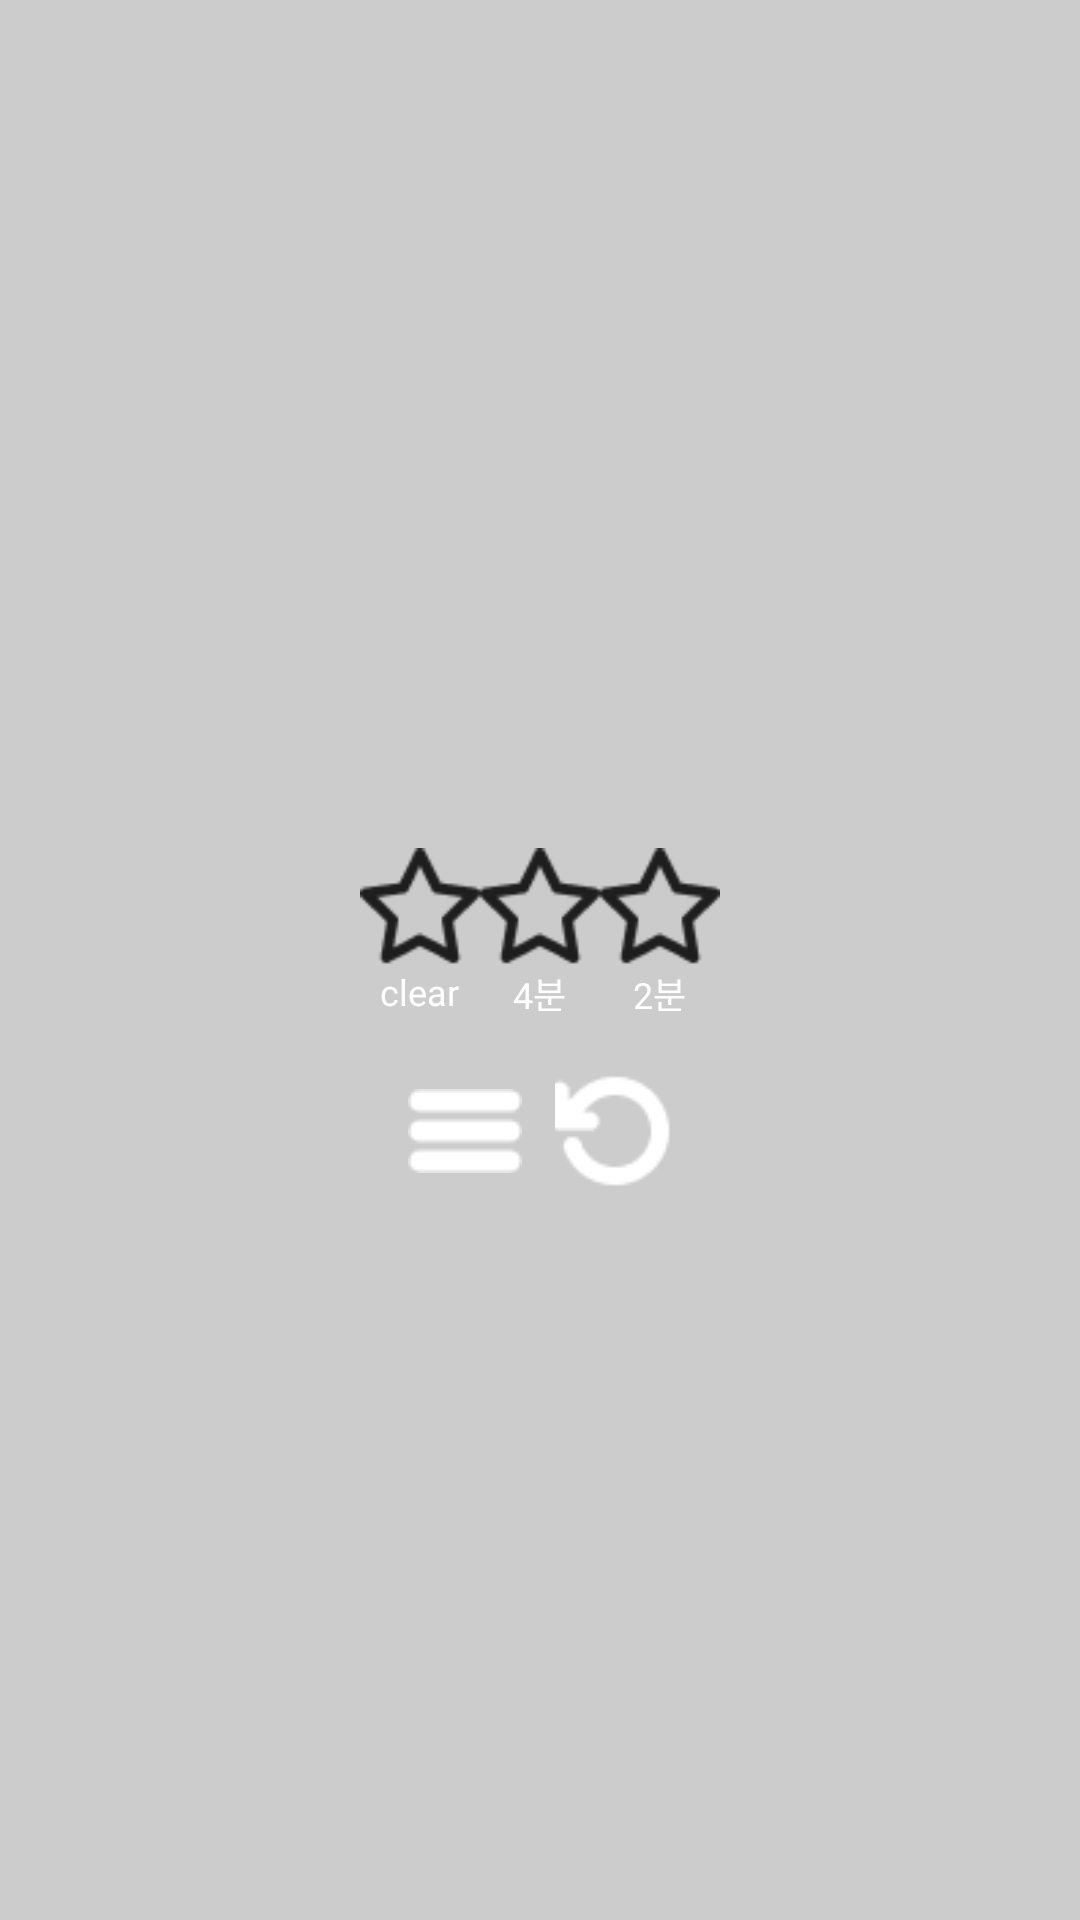

Icons on this 1080px×1920px Android screen, each with its box as (x1, y1, x2, y2):
menu: (410, 1089, 520, 1173)
retry: (555, 1077, 669, 1185)
star: (360, 848, 480, 964), (480, 848, 600, 964), (600, 848, 720, 964)
